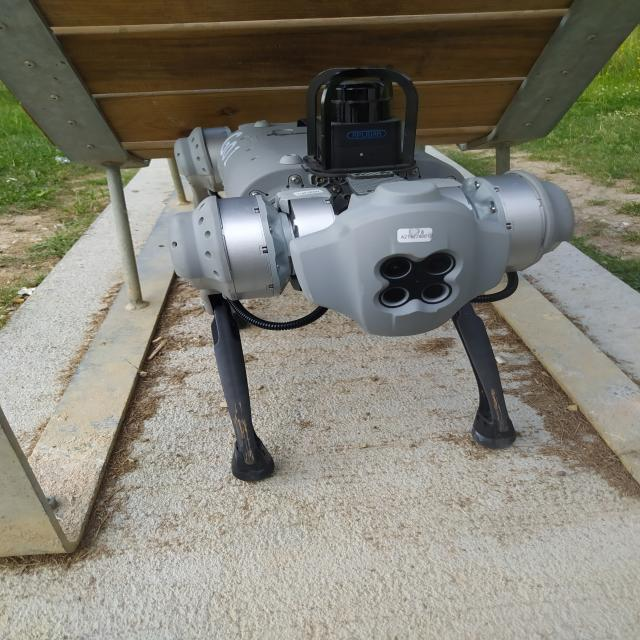unitree-go1-robot: (150, 52, 589, 490)
